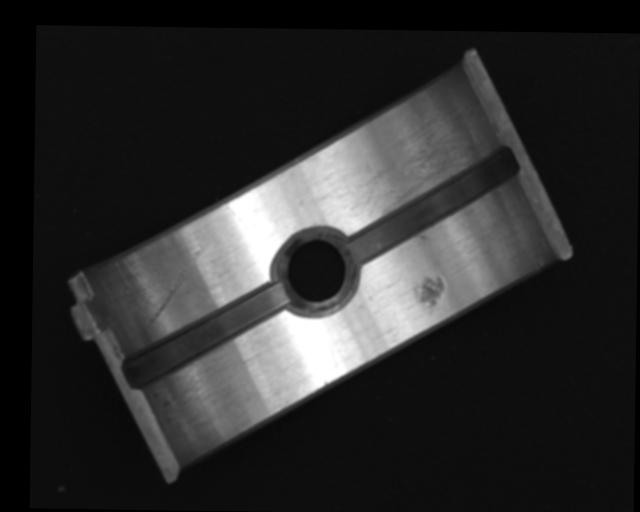bruise: (416, 274, 445, 316)
gap: (346, 144, 519, 266), (123, 280, 288, 392)
hole: (277, 228, 357, 317)
nick: (147, 244, 205, 327)
scratch: (350, 106, 478, 223)
